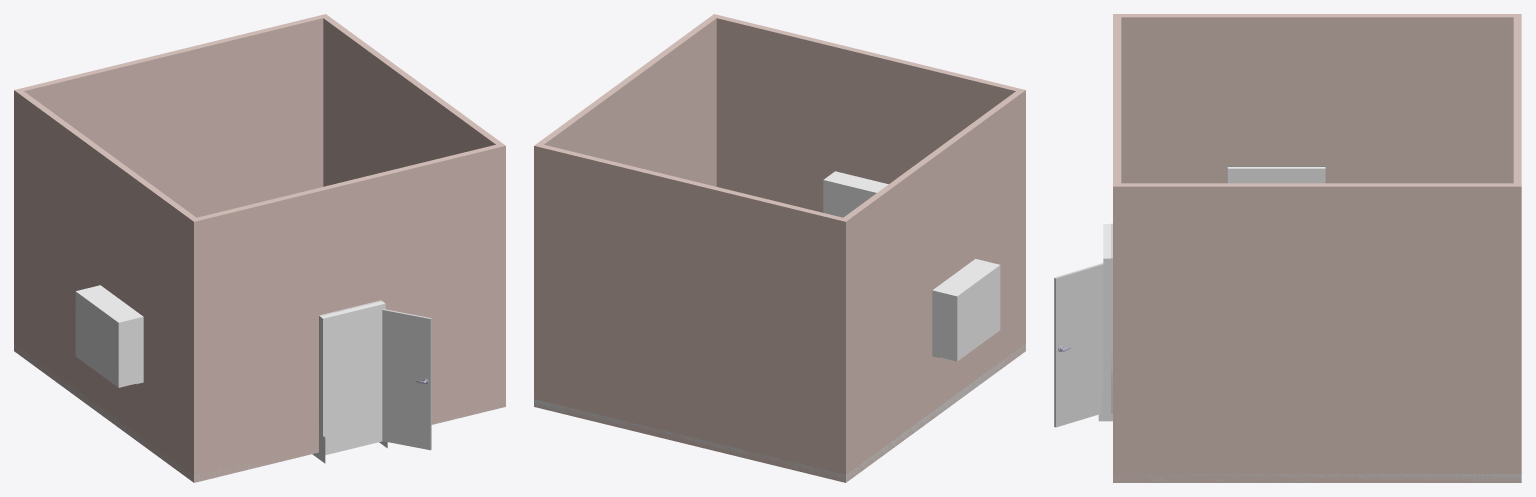
File: Hut.fbx
3 renders of one model, left to right at view 1: azimuth 30°, elevation 25°; view 2: azimuth 150°, elevation 25°; view 3: azimuth 270°, elevation 25°, orthographic. The views are drawn at different scales.
Visible parts, largest first — view 1: Room, CTRL_Hole, Door, CTRL_Hole.001, Baseboard; view 2: Room, CTRL_Hole.001, Baseboard, CTRL_Hole; view 3: Room, Door, Baseboard, CTRL_Hole, CTRL_Hole.001.
Part boxes in pixels (x1,y1,x2,y2): Room: (14,14,505,482); CTRL_Hole: (319,301,385,455); Door: (382,309,431,450); CTRL_Hole.001: (75,285,143,387); Baseboard: (14,345,502,482); Room: (534,14,1025,482); CTRL_Hole.001: (932,259,1000,361); Baseboard: (534,343,1025,482); CTRL_Hole: (823,171,888,217); Room: (1113,14,1521,482); Door: (1054,263,1103,427); Baseboard: (1113,474,1521,482); CTRL_Hole: (1103,224,1112,413); CTRL_Hole.001: (1227,167,1325,183).
Size of the model in its own units: 540 by 410 by 572.
